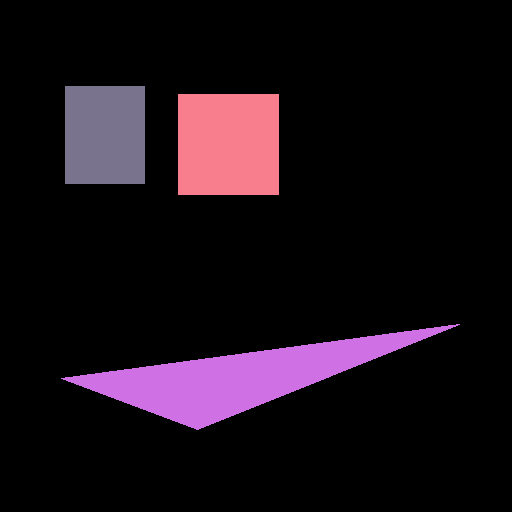rectangle: (65, 86, 144, 183)
square: (178, 94, 278, 194)
triangle: (61, 324, 459, 429)
